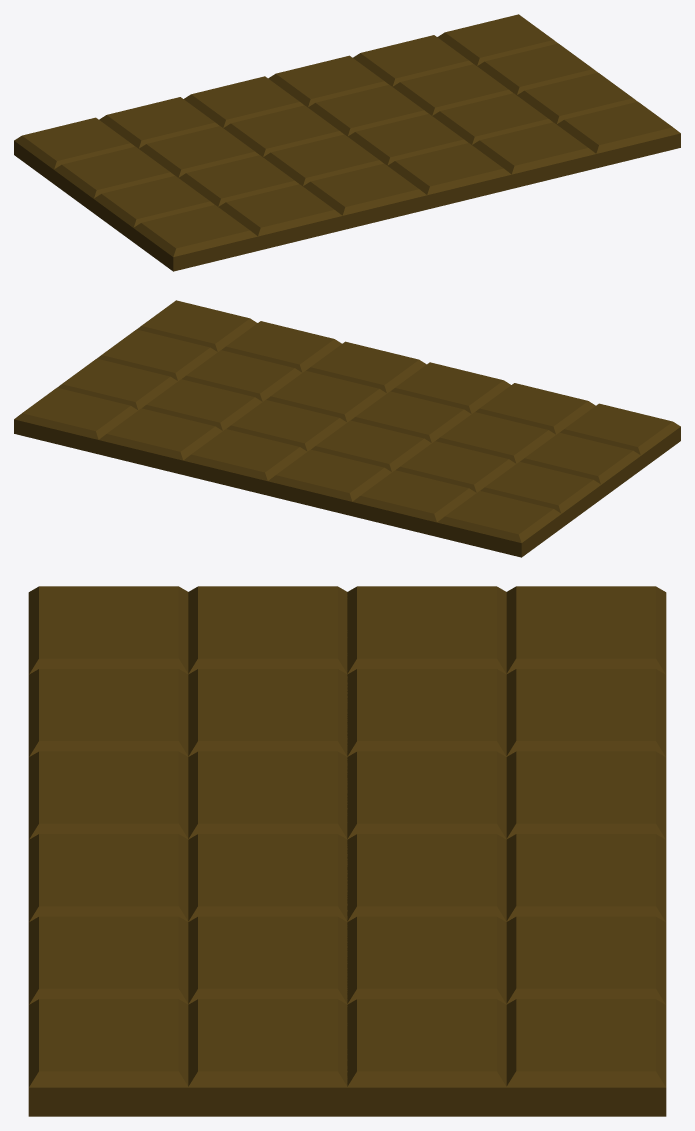
Rendered from Chocolate.fbx.
The picture shows the model from 3 angles, top to bottom: view 1: azimuth 30°, elevation 25°; view 2: azimuth 150°, elevation 25°; view 3: azimuth 270°, elevation 25°; orthographic projection. The views are drawn at different scales.
Parts seen in each view (by area): view 1: pCube25; view 2: pCube25; view 3: pCube25.
Boxes of the visible parts, x1,y1,x2,y2 form: pCube25: (14, 14, 680, 271); pCube25: (14, 300, 680, 557); pCube25: (28, 586, 666, 1116).
Size of the model in its own units: 43.73 by 1.65 by 23.77.
